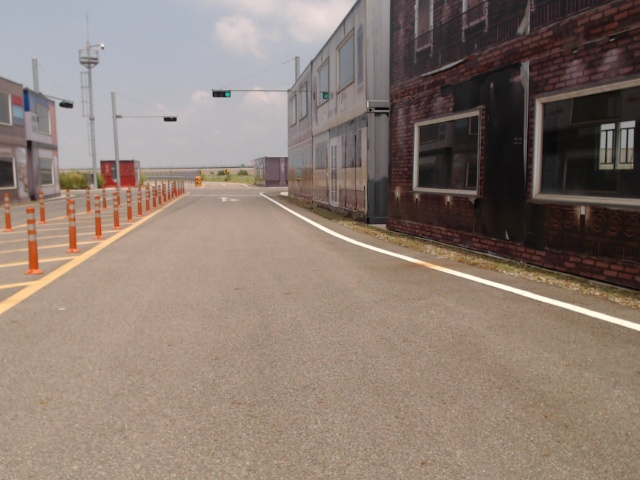green_3: (212, 90, 232, 98)
